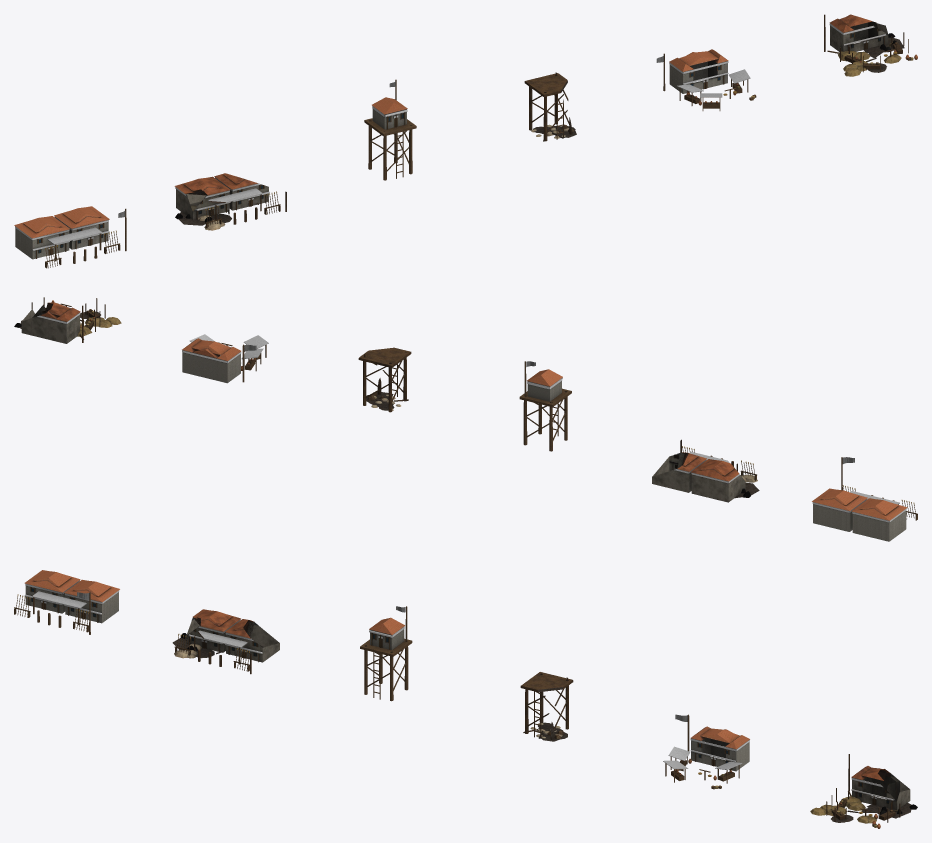
File: rts-gunpowder-monsoon.glb
3 renders of one model, top to bottom at view 1: azimuth 30°, elevation 25°; view 2: azimuth 150°, elevation 25°; view 3: azimuth 330°, elevation 25°, orthographic.
Parts seen in each view (by area): view 1: LOD0, LOD0.001, LOD0.005, LOD0.004, LOD0.002, LOD0.003; view 2: LOD0, LOD0.001, LOD0.004, LOD0.005, LOD0.002, LOD0.003; view 3: LOD0.001, LOD0, LOD0.005, LOD0.004, LOD0.002, LOD0.003.
Part boxes in pixels (left/top/right/bottom): LOD0: left=14, top=206, right=126, bottom=268; LOD0.001: left=174, top=173, right=286, bottom=230; LOD0.005: left=824, top=14, right=917, bottom=76; LOD0.004: left=656, top=49, right=756, bottom=110; LOD0.002: left=364, top=79, right=416, bottom=180; LOD0.003: left=524, top=72, right=576, bottom=141; LOD0: left=812, top=457, right=917, bottom=541; LOD0.001: left=652, top=439, right=759, bottom=502; LOD0.004: left=182, top=334, right=268, bottom=383; LOD0.005: left=14, top=297, right=121, bottom=343; LOD0.002: left=519, top=361, right=571, bottom=451; LOD0.003: left=358, top=347, right=411, bottom=412; LOD0.001: left=172, top=609, right=279, bottom=674; LOD0: left=14, top=570, right=119, bottom=634; LOD0.005: left=810, top=754, right=917, bottom=828; LOD0.004: left=663, top=714, right=749, bottom=789; LOD0.002: left=360, top=606, right=412, bottom=701; LOD0.003: left=520, top=672, right=573, bottom=741.
Size of what is drawn, in the model's own units: 16.4 by 1.48 by 1.36.
Materials: 2 (2 with a texture image).
